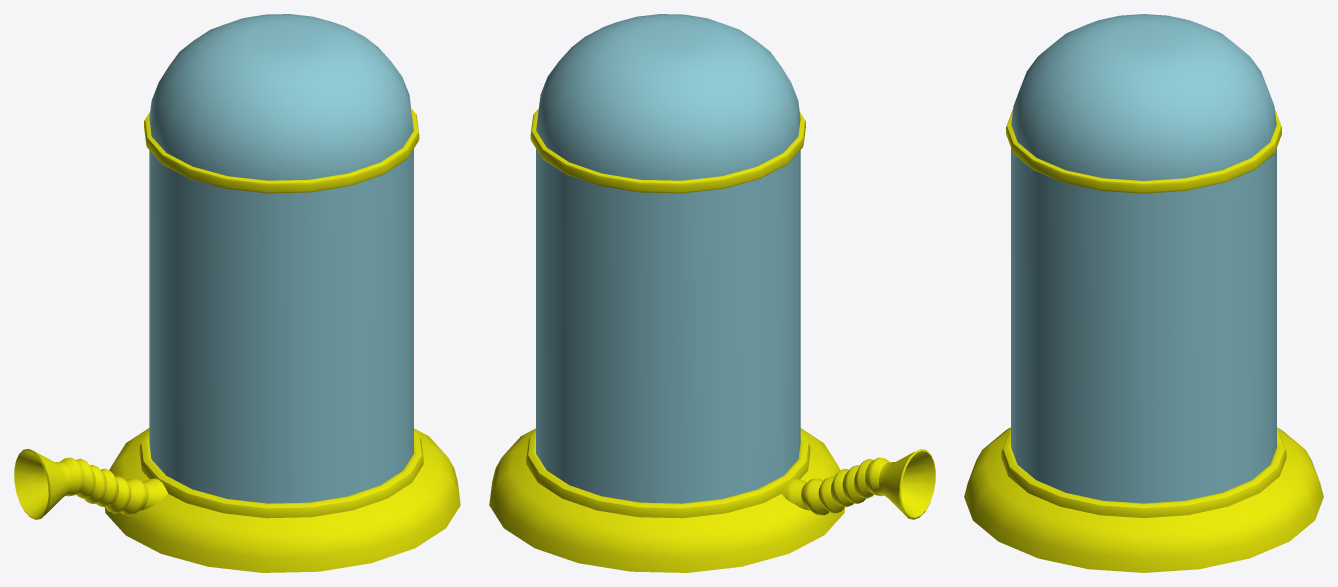
The picture shows the model from 3 angles, left to right: view 1: azimuth 30°, elevation 25°; view 2: azimuth 150°, elevation 25°; view 3: azimuth 270°, elevation 25°; orthographic projection.
Parts seen in each view (by area): view 1: lab, polySurface305; view 2: lab, polySurface305; view 3: lab.
Boxes of the visible parts, bbox=[...] form: lab: bbox=[104, 14, 460, 572]; polySurface305: bbox=[14, 449, 168, 519]; lab: bbox=[489, 14, 845, 572]; polySurface305: bbox=[781, 449, 935, 519]; lab: bbox=[964, 14, 1323, 572].
Size of the model in its own units: 0.206 by 0.2214 by 0.1574.
Materials: 2 (1 with a texture image).
